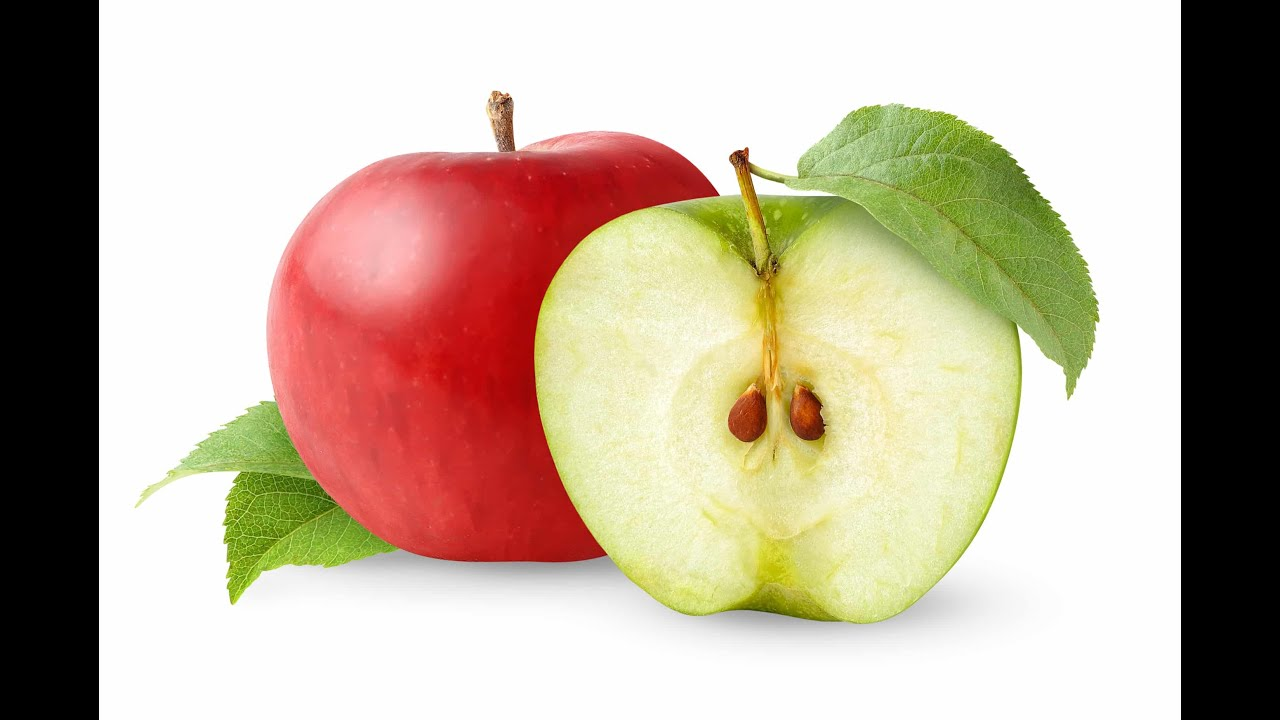apple: (256, 128, 747, 575)
